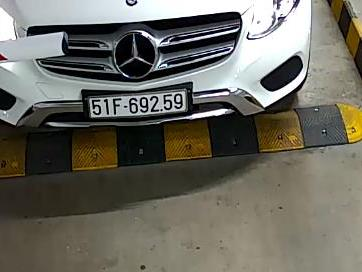car: (88, 89, 189, 118)
